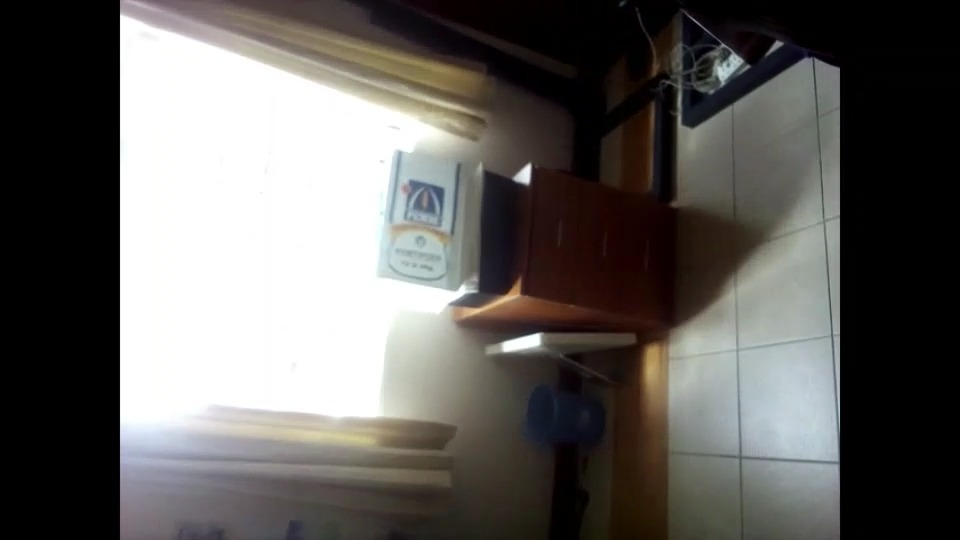wheat_flour_blue_label: (377, 151, 485, 292)
